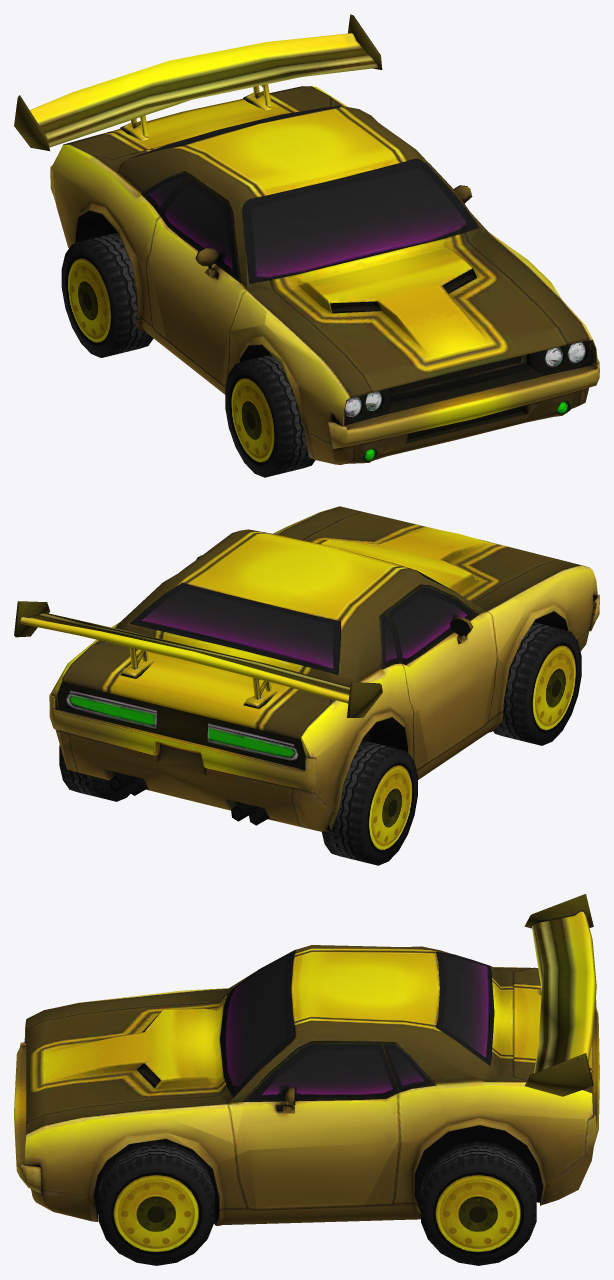
The model's file is Car 11.glb.
3 views of the same model, one above another, from view 1: azimuth 30°, elevation 25°; view 2: azimuth 150°, elevation 25°; view 3: azimuth 270°, elevation 25° (orthographic).
Parts seen in each view (by area): view 1: car_chrome_014, carBody_low_013, tireFrontR_low_028, tireFrontR_low_017; view 2: car_chrome_014, tireFrontR_low_028, carBody_low_013, tireFrontR_low_017, tireFrontL_low_028; view 3: car_chrome_014, tireFrontL_low_028, tireFrontL_low_018, carBody_low_013.
Boxes of the visible parts, bbox=[...] form: car_chrome_014: bbox=[50, 86, 599, 464]; carBody_low_013: bbox=[14, 14, 382, 150]; tireFrontR_low_028: bbox=[61, 232, 153, 357]; tireFrontR_low_017: bbox=[225, 354, 315, 477]; car_chrome_014: bbox=[49, 506, 599, 831]; tireFrontR_low_028: bbox=[322, 740, 417, 865]; carBody_low_013: bbox=[14, 601, 382, 717]; tireFrontR_low_017: bbox=[493, 622, 581, 745]; tireFrontL_low_028: bbox=[59, 745, 130, 801]; car_chrome_014: bbox=[14, 945, 599, 1225]; tireFrontL_low_028: bbox=[421, 1141, 536, 1265]; tireFrontL_low_018: bbox=[99, 1141, 214, 1265]; carBody_low_013: bbox=[524, 894, 596, 1096].
Bounding box in the file's own units: 0.7431 × 0.4698 × 1.13.
Materials: 3 (3 with a texture image).
